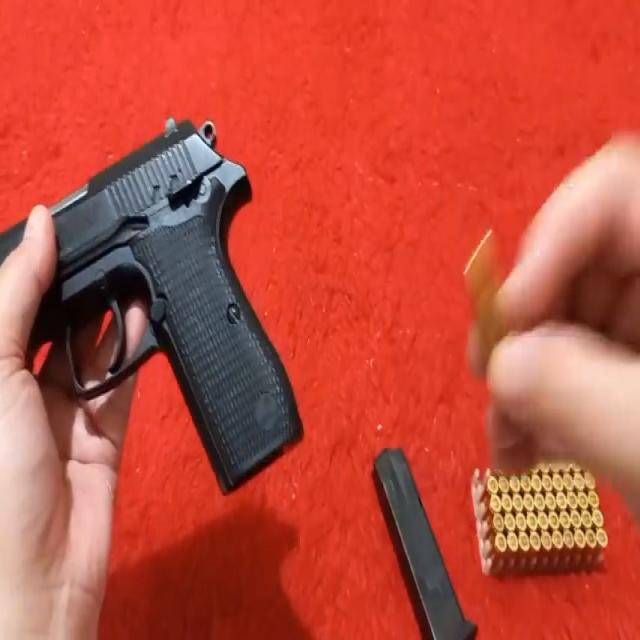handgun: (42, 97, 307, 509)
